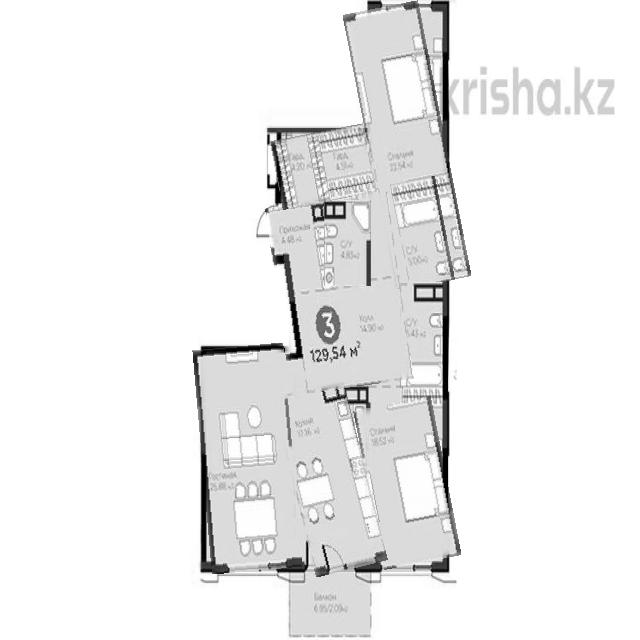bathroom: (395, 177, 451, 287), (400, 282, 447, 388), (324, 200, 371, 286)
hallway: (265, 204, 413, 393)
kitchen: (282, 381, 378, 574)
living_room: (344, 2, 452, 289), (197, 344, 298, 573), (361, 399, 454, 567)
other: (274, 128, 374, 206)
